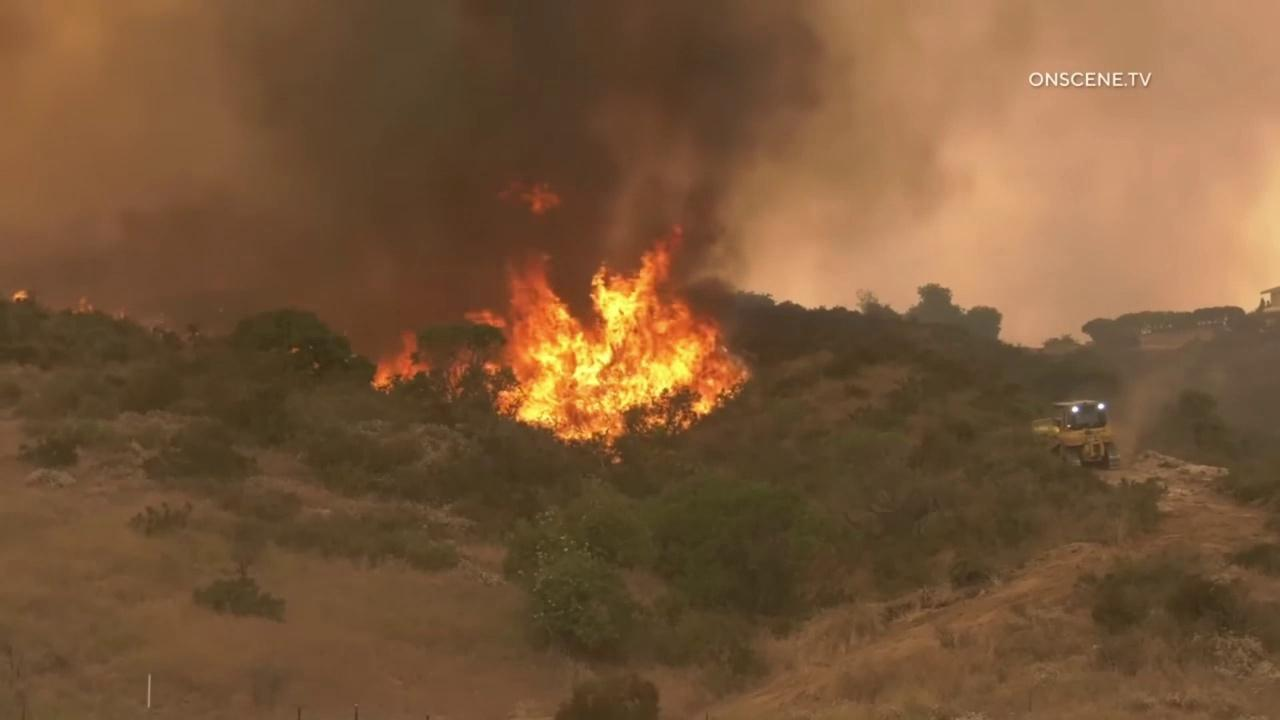fire: (441, 221, 757, 464), (363, 327, 434, 396), (495, 178, 560, 217), (9, 288, 30, 304)
smoke: (0, 0, 1280, 358)
